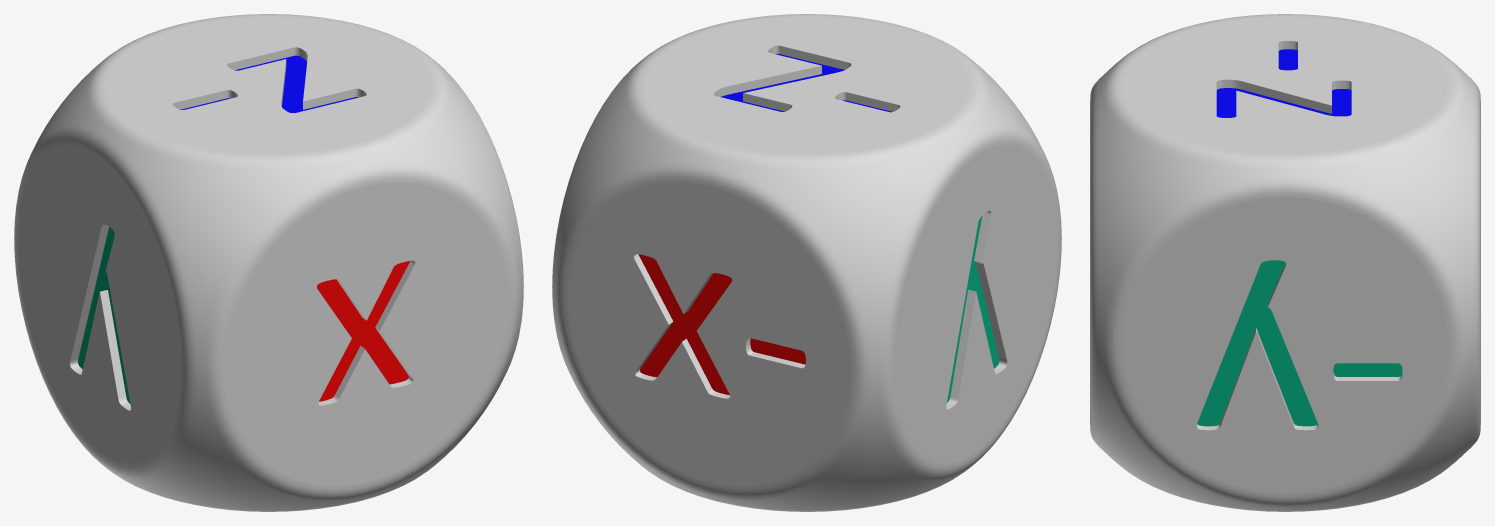
File: Cube_xyz@2.glb
3 views of the same model, side by side, from view 1: azimuth 30°, elevation 25°; view 2: azimuth 150°, elevation 25°; view 3: azimuth 270°, elevation 25° (orthographic).
Parts seen in each view (by area): view 1: Cube_xyz\Corps1; view 2: Cube_xyz\Corps1; view 3: Cube_xyz\Corps1.
Boxes of the visible parts, x1,y1,x2,y2 form: Cube_xyz\Corps1: (14, 14, 523, 511); Cube_xyz\Corps1: (552, 14, 1061, 511); Cube_xyz\Corps1: (1090, 14, 1480, 511).
Bounding box in the file's own units: 0.5 × 0.5 × 0.5.
